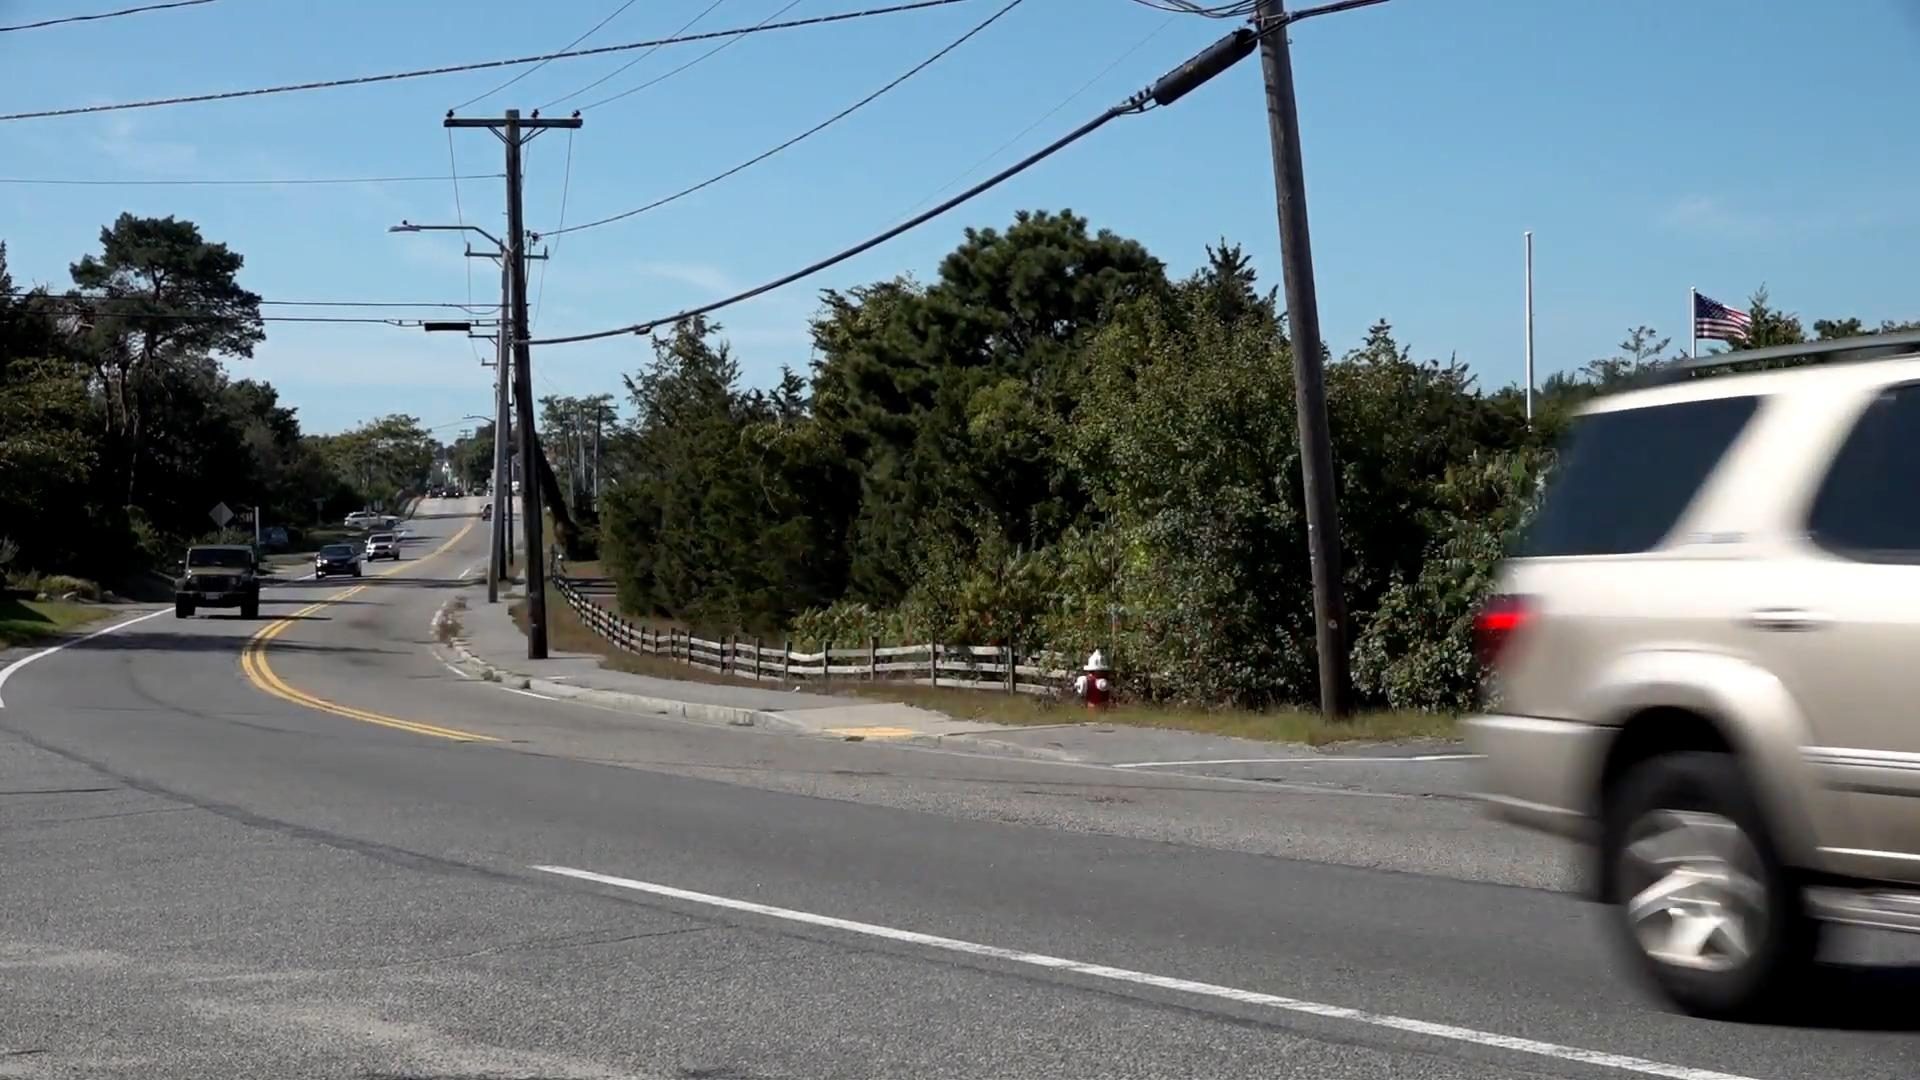suv: (1478, 334, 1920, 1019), (177, 543, 262, 621)
